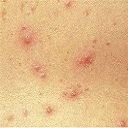Chickenpox: (73, 49, 95, 65), (18, 30, 32, 49), (65, 86, 84, 100), (32, 64, 46, 78)
